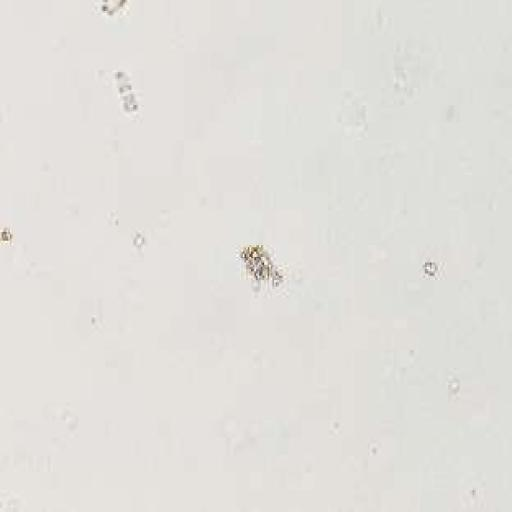CFU-E: (240, 245, 281, 287)
